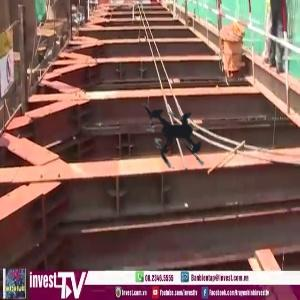drone: (114, 75, 234, 195)
